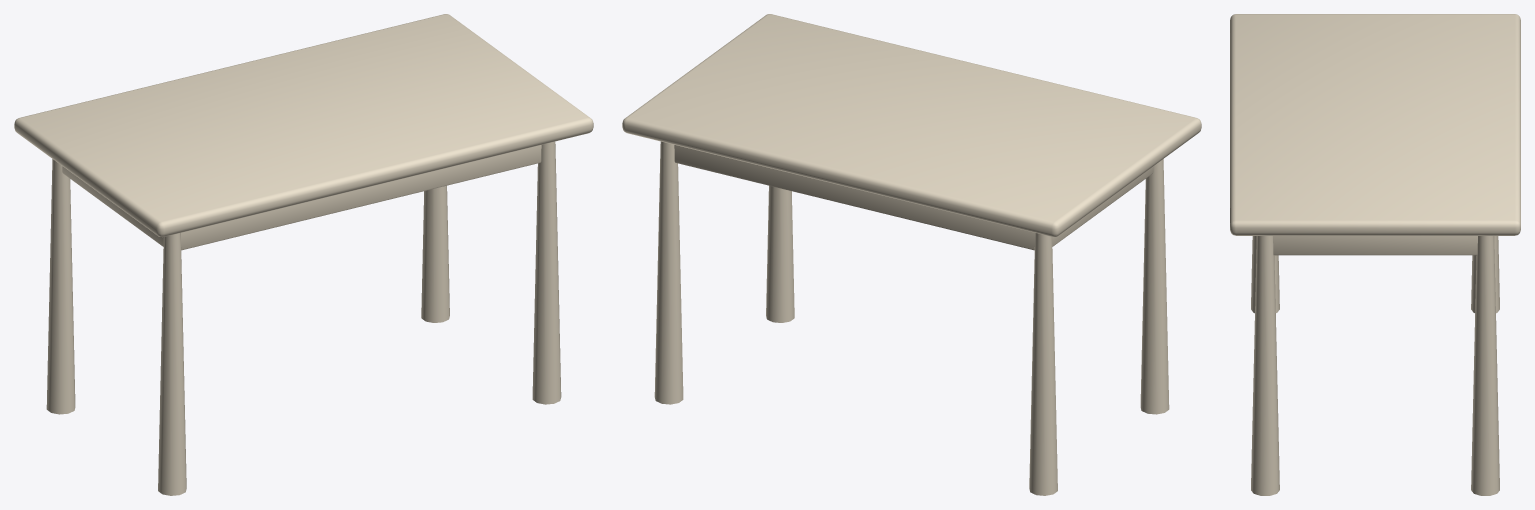
File: table.glb
3 renders of one model, left to right at view 1: azimuth 30°, elevation 25°; view 2: azimuth 150°, elevation 25°; view 3: azimuth 270°, elevation 25°, orthographic.
Visible parts, largest first — view 1: top, apron_f, leg, leg.002, leg.001, leg.003, apron_l; view 2: top, apron_b, leg.001, leg.003, leg, leg.002, apron_l; view 3: top, leg.002, leg.003, apron_r, leg, leg.001.
Part boxes in pixels (x1,y1,x2,y2): top: [14, 14, 593, 237]; apron_f: [181, 145, 541, 250]; leg: [158, 233, 186, 495]; leg.002: [532, 141, 561, 404]; leg.001: [46, 159, 75, 414]; leg.003: [421, 185, 449, 322]; apron_l: [62, 166, 163, 246]; top: [622, 14, 1201, 237]; apron_b: [674, 145, 1034, 250]; leg.001: [1029, 233, 1057, 495]; leg.003: [654, 141, 683, 404]; leg: [1140, 159, 1169, 414]; leg.002: [766, 185, 794, 322]; apron_l: [1052, 166, 1153, 246]; top: [1230, 14, 1520, 235]; leg.002: [1251, 236, 1279, 495]; leg.003: [1471, 236, 1499, 495]; apron_r: [1273, 236, 1477, 255]; leg: [1251, 236, 1279, 313]; leg.001: [1471, 236, 1499, 313].
Bounding box in the file's own units: 1.2 × 0.75 × 0.7.
